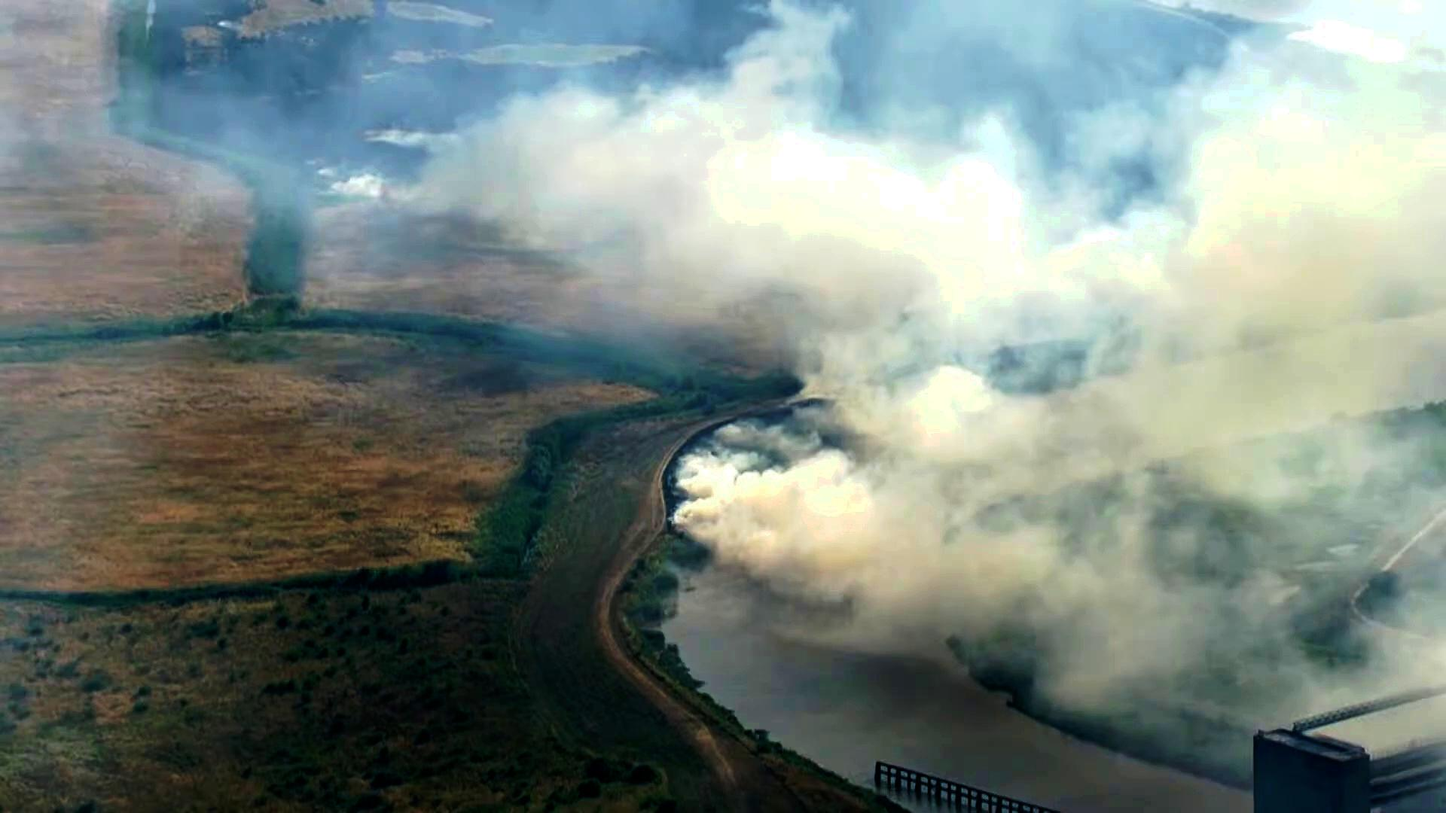smoke: (524, 72, 1054, 308), (1089, 92, 1446, 349), (678, 443, 855, 596)
